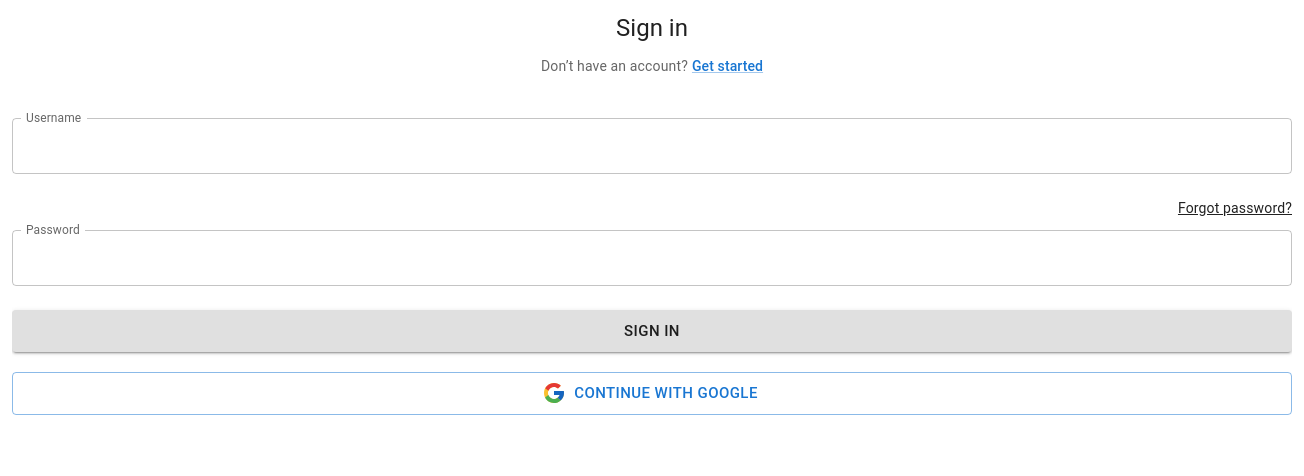
Test: SignInView › handles failed login
Type "wronguser" into the field labelled "Username" at (652, 146), box [12, 118, 1292, 174]
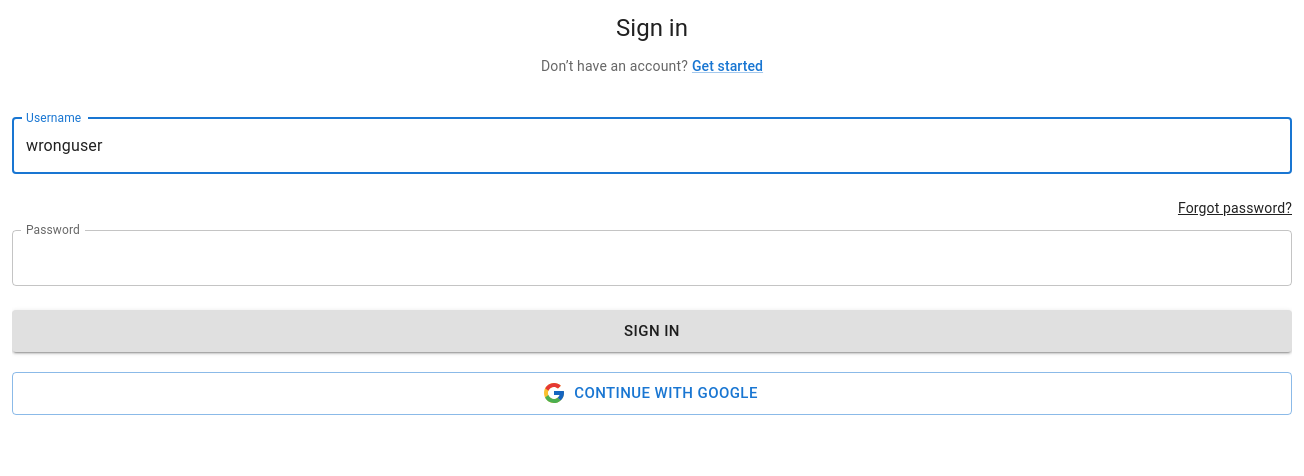
Type "wrongpassword" into the password field labelled "Password" at (629, 258), box [12, 230, 1246, 286]
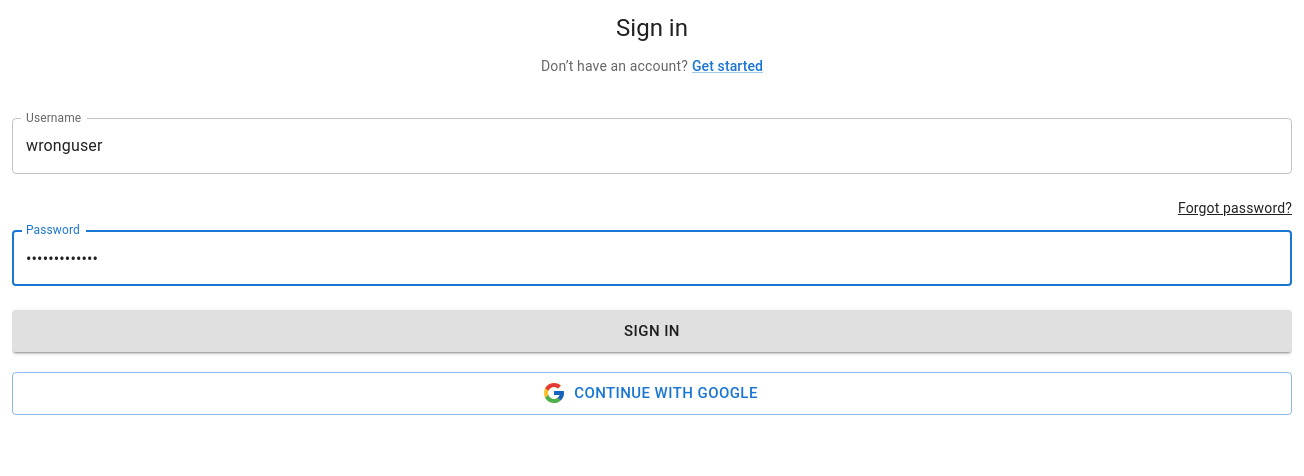
Click the button "Sign in" at (652, 331), box [12, 310, 1292, 352]
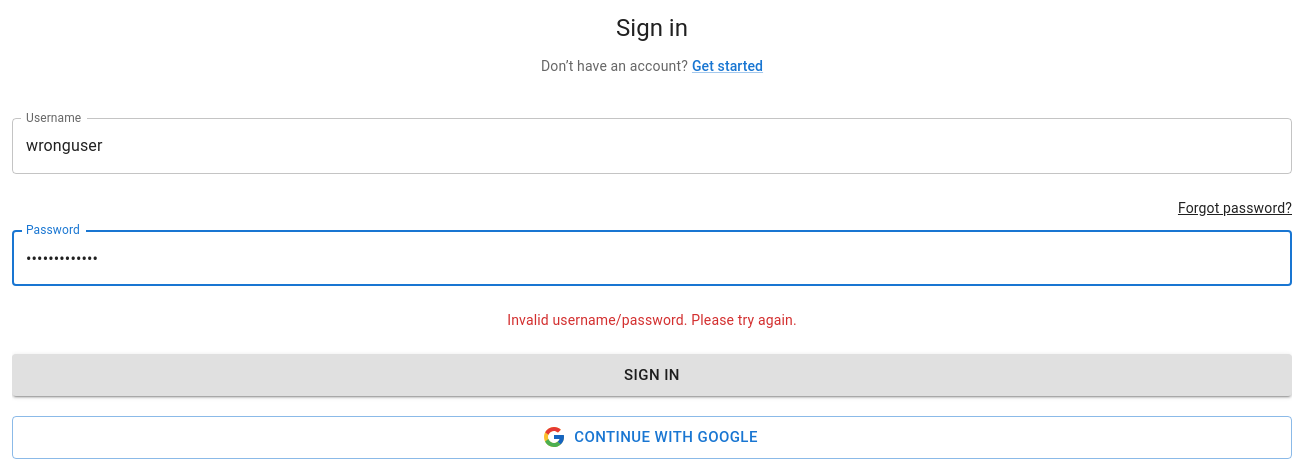
Now the text "Invalid username/password. Please try again." is shown, box [507, 310, 797, 330]
